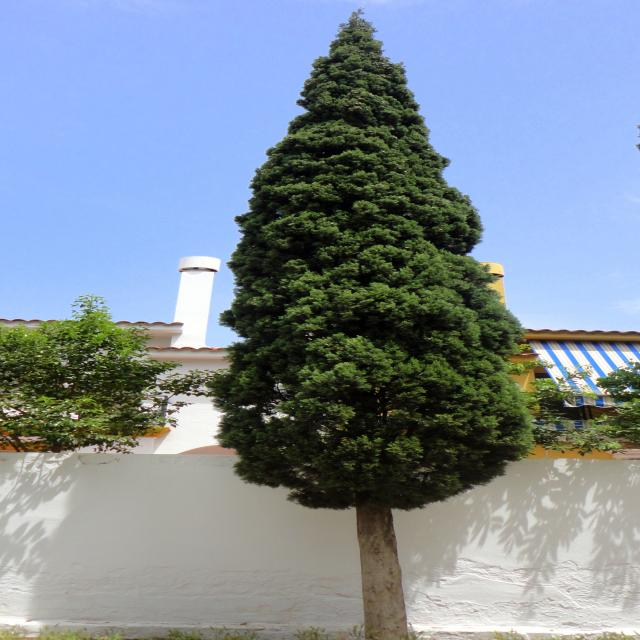cipres: (223, 5, 540, 640)
